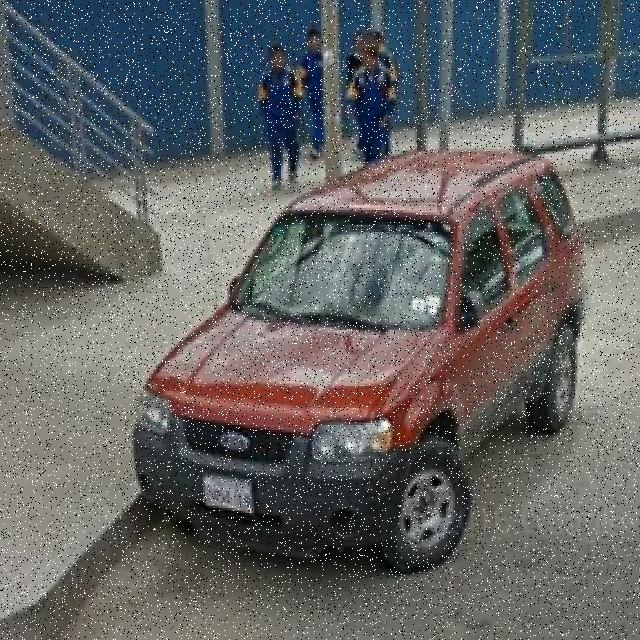cars: (153, 148, 554, 578)
